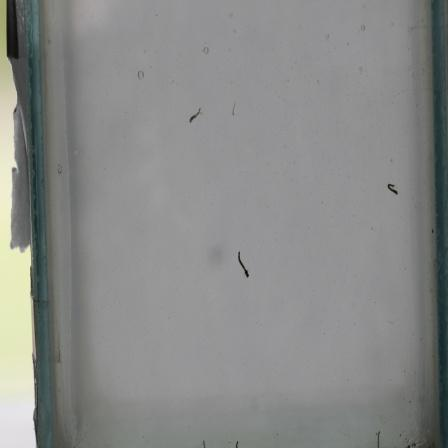Jentik-Nyamuk: (236, 248, 252, 282), (186, 103, 205, 128), (382, 178, 400, 198)
